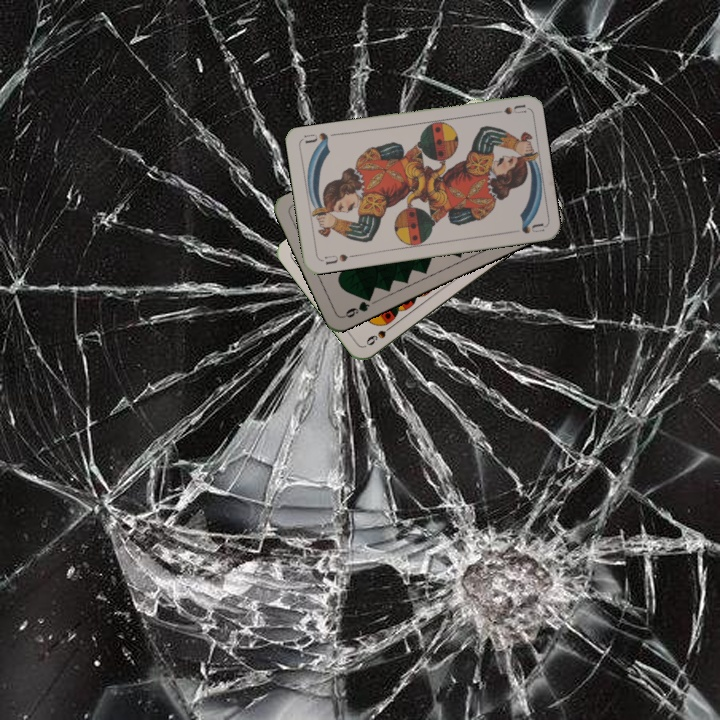G9: (340, 291, 375, 320)
S9: (362, 320, 397, 348)
SU: (317, 250, 358, 267), (486, 100, 527, 117)
